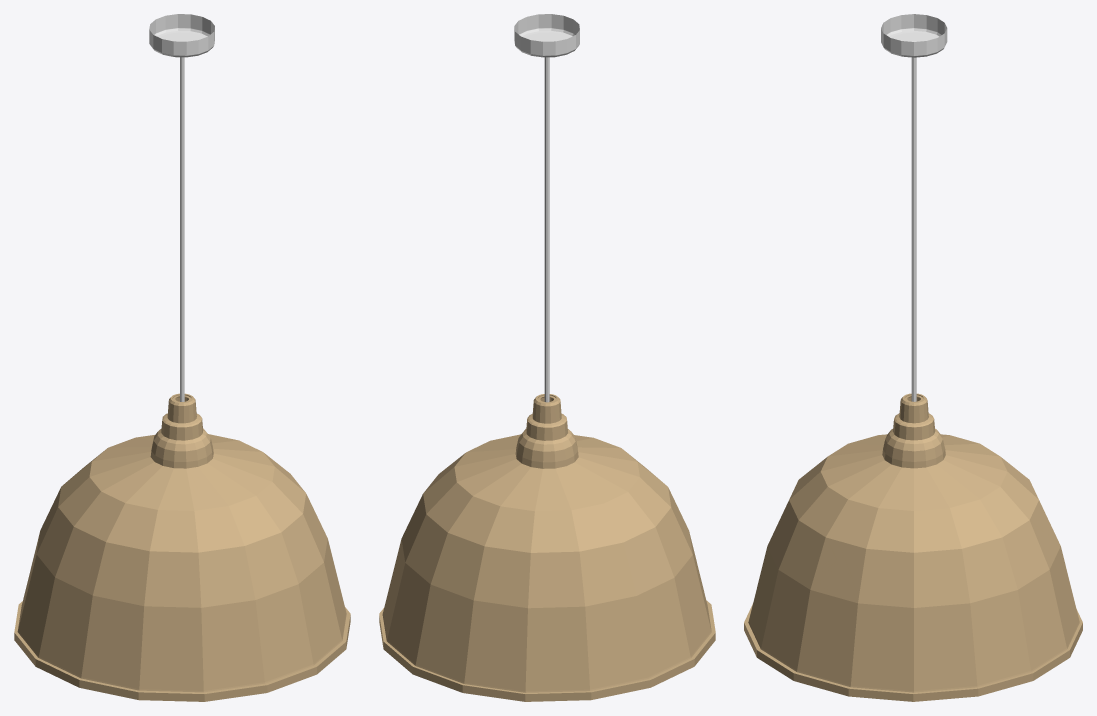
File: light-pendant.glb
3 renders of one model, left to right at view 1: azimuth 30°, elevation 25°; view 2: azimuth 150°, elevation 25°; view 3: azimuth 270°, elevation 25°, orthographic.
Parts seen in each view (by area): view 1: symbol; view 2: symbol; view 3: symbol.
Part boxes in pixels (left/top/right/bottom): symbol: left=14, top=14, right=350, bottom=701; symbol: left=379, top=14, right=715, bottom=701; symbol: left=744, top=14, right=1082, bottom=701.
Bounding box in the file's own units: 43.89 × 86.04 × 43.89.
